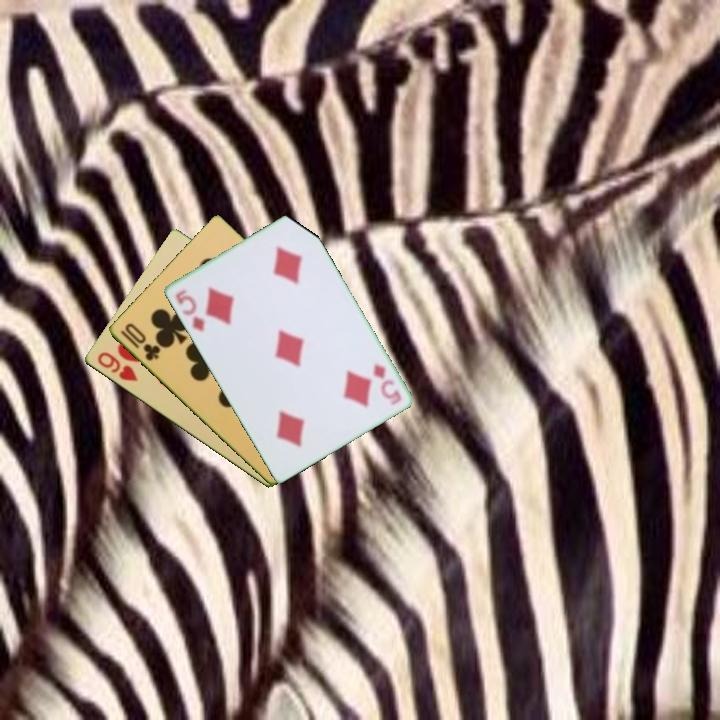10c: (117, 319, 163, 364)
5d: (171, 285, 207, 335), (369, 361, 404, 408)
9h: (93, 348, 140, 384)
